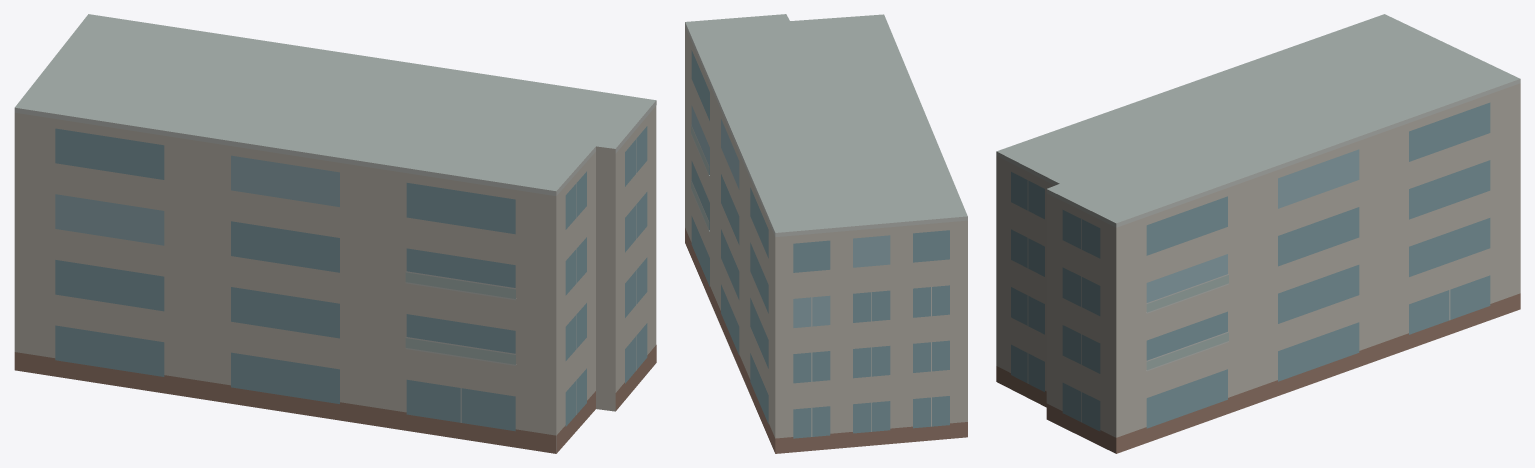
File: survey-upis-32724225.glb
3 renders of one model, left to right at view 1: azimuth 30°, elevation 25°; view 2: azimuth 150°, elevation 25°; view 3: azimuth 270°, elevation 25°, orthographic. The views are drawn at different scales.
Visible parts, largest first — view 1: survey-upis-32724225.tmp; view 2: survey-upis-32724225.tmp; view 3: survey-upis-32724225.tmp.
Part boxes in pixels (x1,y1,x2,y2): survey-upis-32724225.tmp: (14, 14, 656, 453); survey-upis-32724225.tmp: (685, 14, 967, 453); survey-upis-32724225.tmp: (996, 14, 1520, 453).
Size of the model in its own units: 25.14 by 12.9 by 26.59.
